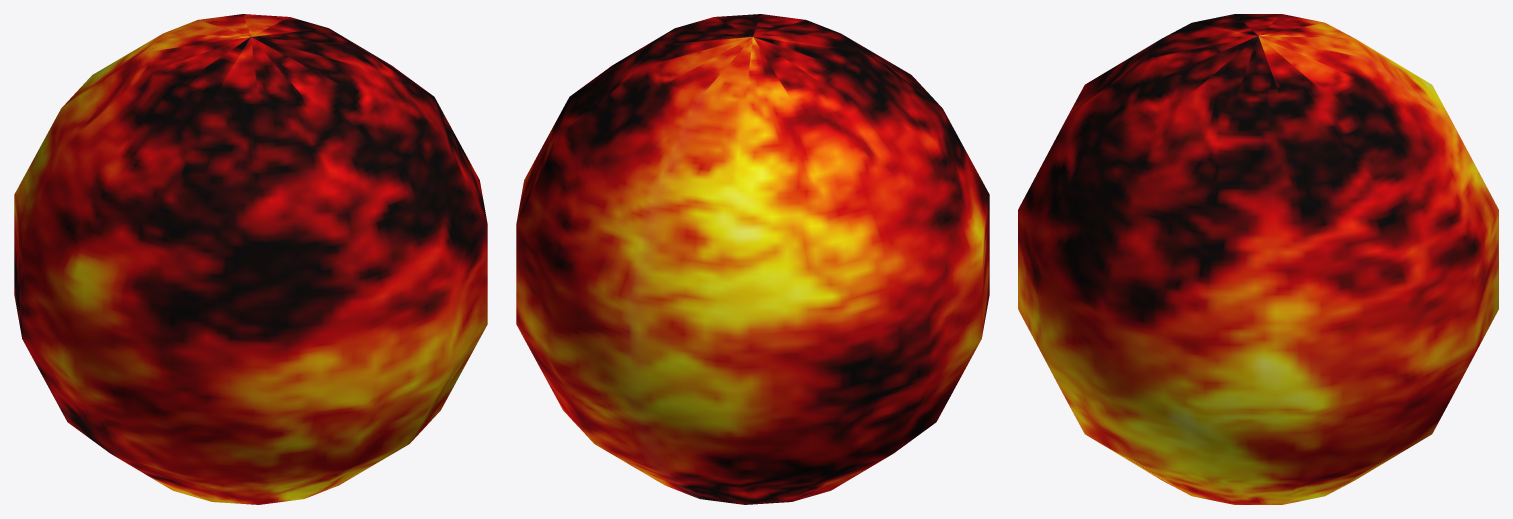
The model's file is OnlyOneBall.fbx.
3 views of the same model, side by side, from view 1: azimuth 30°, elevation 25°; view 2: azimuth 150°, elevation 25°; view 3: azimuth 270°, elevation 25° (orthographic).
Visible parts, largest first — view 1: Sphere009; view 2: Sphere009; view 3: Sphere009.
Boxes of the visible parts, left/top/right/bottom form: Sphere009: left=14, top=14, right=487, bottom=504; Sphere009: left=516, top=14, right=989, bottom=504; Sphere009: left=1018, top=14, right=1498, bottom=504.
Bounding box in the file's own units: 30.42 × 32.01 × 31.2.
Materials: 1 (1 with a texture image).
